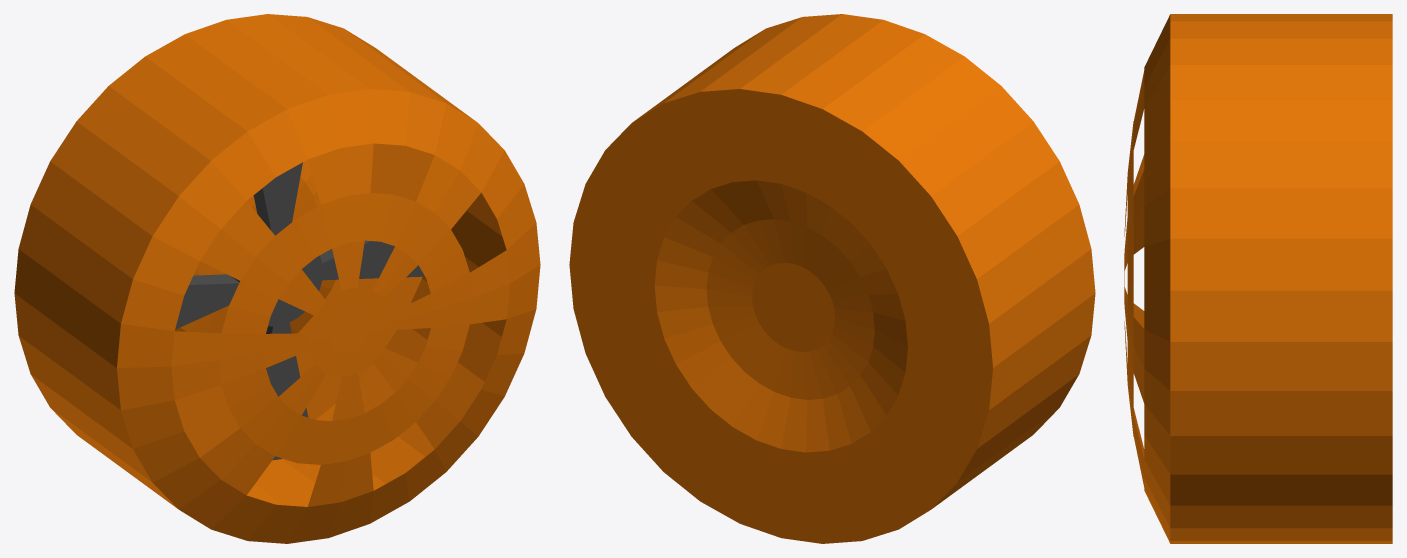
The model's file is Fan.fbx.
3 views of the same model, side by side, from view 1: azimuth 30°, elevation 25°; view 2: azimuth 150°, elevation 25°; view 3: azimuth 270°, elevation 25° (orthographic). The views are drawn at different scales.
Parts seen in each view (by area): view 1: Cylinder.003, Cylinder.004; view 2: Cylinder.003; view 3: Cylinder.003.
Part boxes in pixels (x1=…): Cylinder.003: x1=14, y1=14, x2=540, y2=543; Cylinder.004: x1=175, y1=162, x2=424, y2=460; Cylinder.003: x1=569, y1=14, x2=1095, y2=543; Cylinder.003: x1=1124, y1=14, x2=1392, y2=543.
Size of the model in its own units: 1000 by 1000 by 505.
